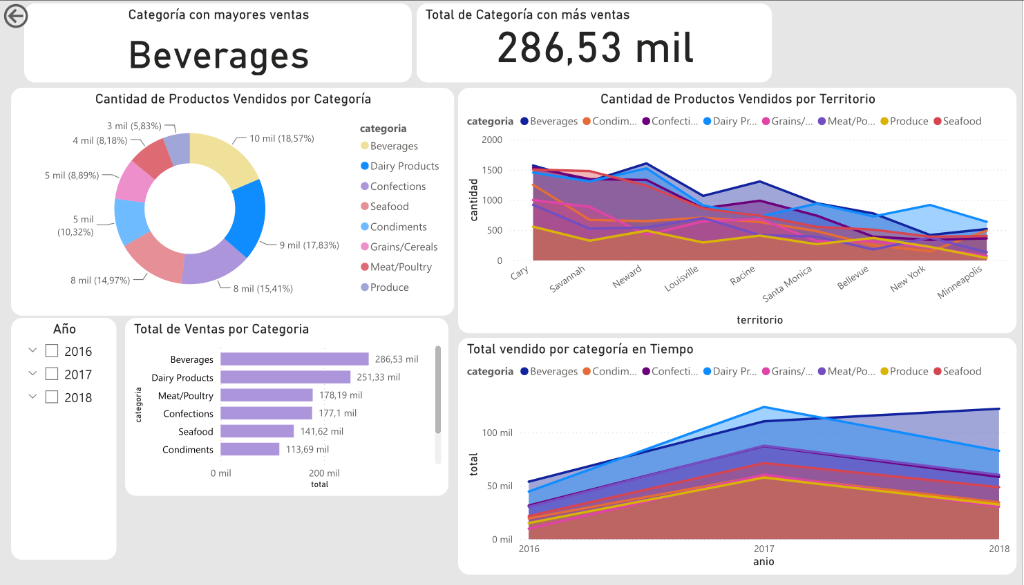

The dashboard page shown, as its layout file describes it:
{"tool":"powerbi","page":{"name":"KPI Categoria","canvas":[1280,720],"ordinal":1},"visuals":[{"type":"barChart","title":"Total de Ventas por Categoria","fields":{"Category":["dimCategorias.categoria"],"Y":["Sum(factTable.total)"]},"box":[156.4,397.9,405.1,223.1],"z":0},{"type":"slicer","title":"Año","fields":{"Values":["dimTiempo.anio","dimTiempo.mes"]},"box":[13.7,397.9,132.2,303],"z":1000},{"type":"donutChart","title":"Cantidad de Productos Vendidos por Categoría","fields":{"Category":["dimCategorias.categoria"],"Y":["Sum(factTable.cantidad)"]},"box":[13.7,109.9,554.9,285.3],"z":2000},{"type":"areaChart","title":"Cantidad de Productos Vendidos por Territorio","fields":{"Category":["dimTerritorio.territorio"],"Y":["Sum(factTable.cantidad)"],"Series":["dimCategorias.categoria"]},"box":[573.9,109.9,699.6,307.6],"z":3000},{"type":"areaChart","title":"Total vendido por categoría en Tiempo","fields":{"Category":["dimTiempo.anio"],"Y":["Sum(factTable.total)"],"Series":["dimCategorias.categoria"]},"box":[573.9,423.4,699.6,296.4],"z":4000},{"type":"card","title":"Categoría con mayores ventas","fields":{"Values":["Min(dimCategorias.categoria)"]},"box":[30.1,4.6,485.6,98.8],"z":5000},{"type":"actionButton","box":[0,0,100,40],"z":6000},{"type":"card","title":"Total de Categoría con más ventas","fields":{"Values":["Sum(factTable.total)"]},"box":[522.2,4.6,445,98.8],"z":6001}]}

Visuals, with their boxes in screenshot pixels (x1, y1, x2, y2), scaled from the page's 1280x720 canvas onto the 1024x585 screenshot:
"Total de Ventas por Categoria" barChart: x1=125, y1=323, x2=449, y2=505
"Año" slicer: x1=11, y1=323, x2=117, y2=569
"Cantidad de Productos Vendidos por Categoría" donutChart: x1=11, y1=89, x2=455, y2=321
"Cantidad de Productos Vendidos por Territorio" areaChart: x1=459, y1=89, x2=1019, y2=339
"Total vendido por categoría en Tiempo" areaChart: x1=459, y1=344, x2=1019, y2=584
"Categoría con mayores ventas" card: x1=24, y1=4, x2=413, y2=84
actionButton: x1=0, y1=0, x2=80, y2=32
"Total de Categoría con más ventas" card: x1=418, y1=4, x2=774, y2=84
